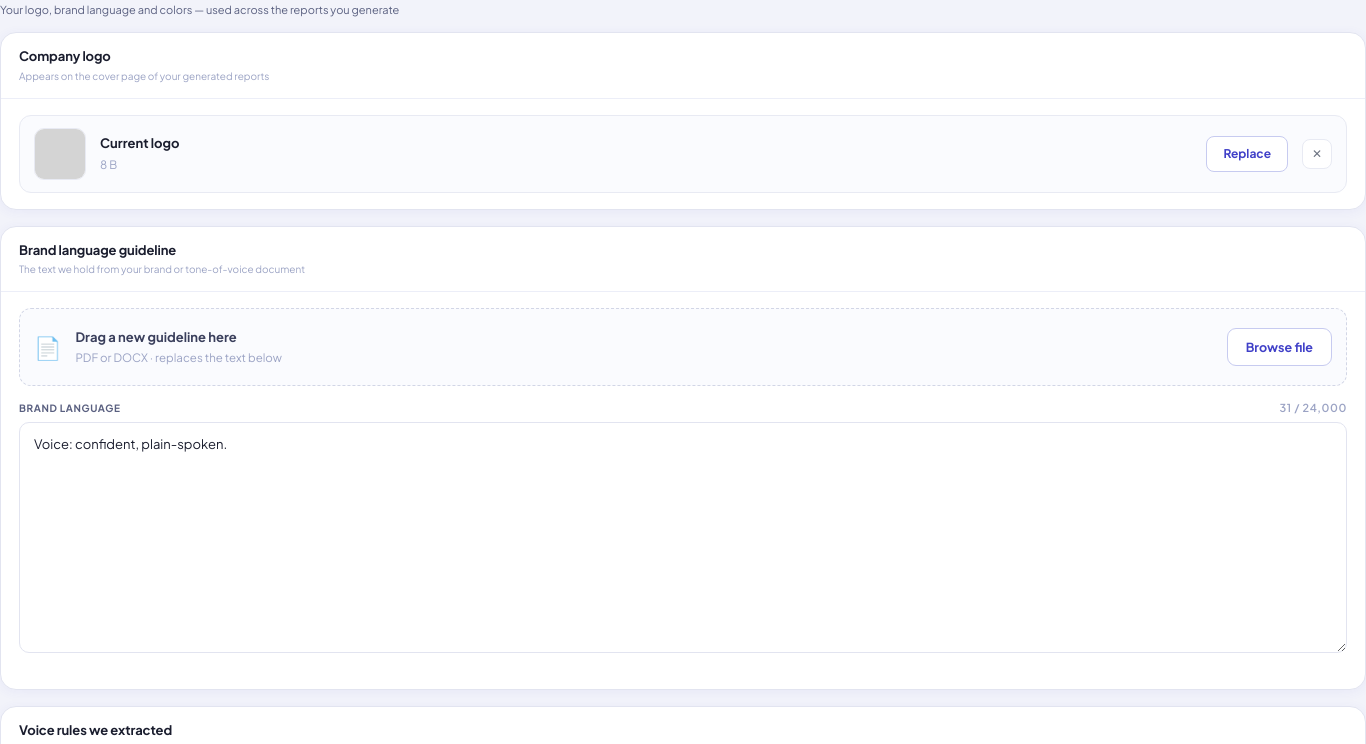
Test: Brand Identity page — the save payload › surfaces a failed save and leaves the edit in place
Replace the text in the text box with placeholder "Upload a document above, or write your brand language here." with "Voice: warm." at coordinates (683, 538), box [19, 422, 1347, 654]
(page scrolled)
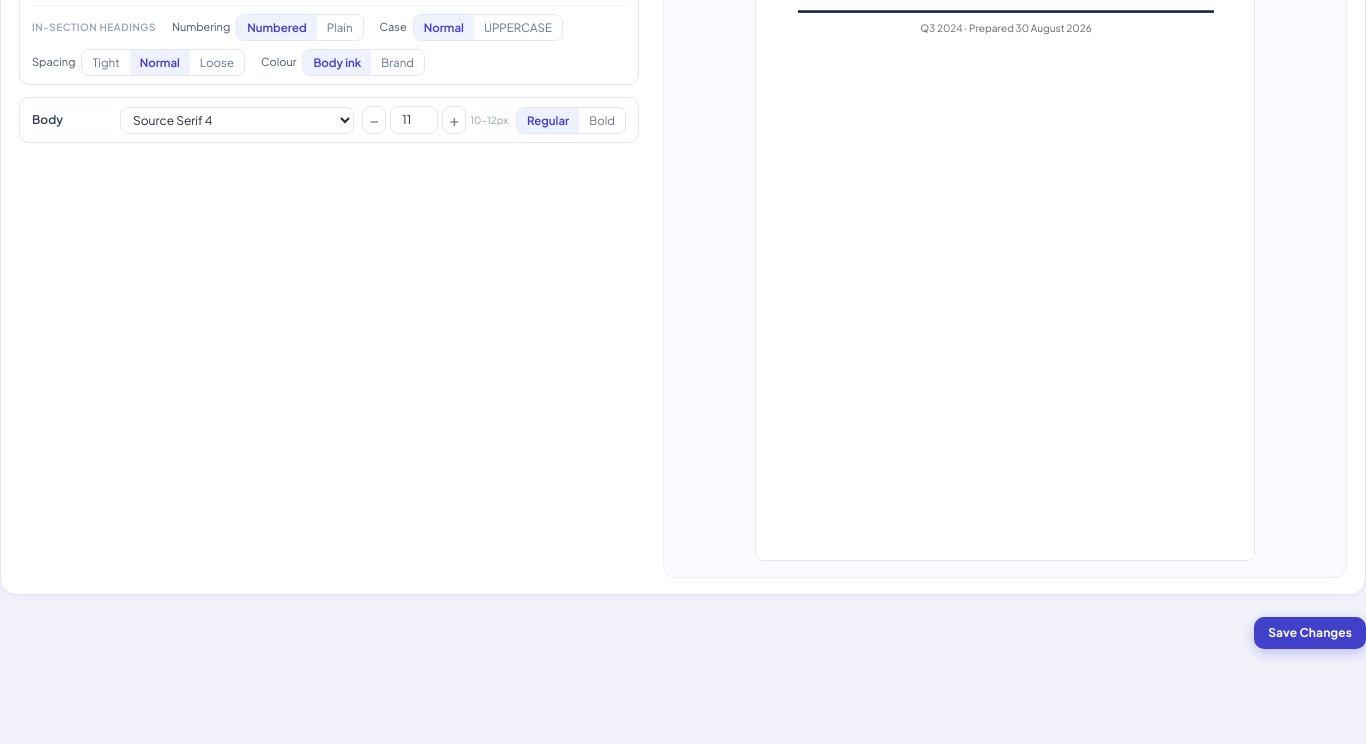
Click the button "Save Changes" at coordinates (1310, 632), box [1254, 616, 1365, 648]
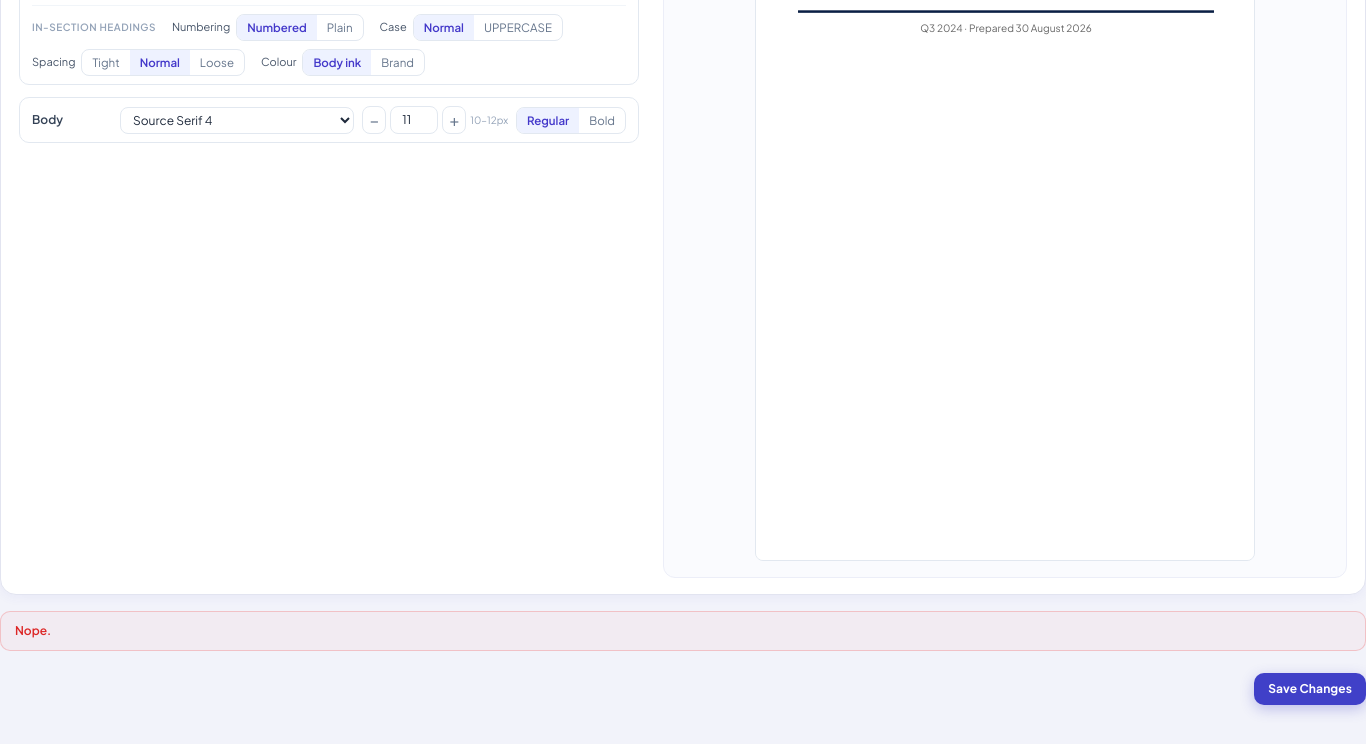
Expected: the button "Save Changes" is enabled, [1254, 672, 1365, 704]
Expected: the message reads "Nope.", [15, 622, 51, 638]
